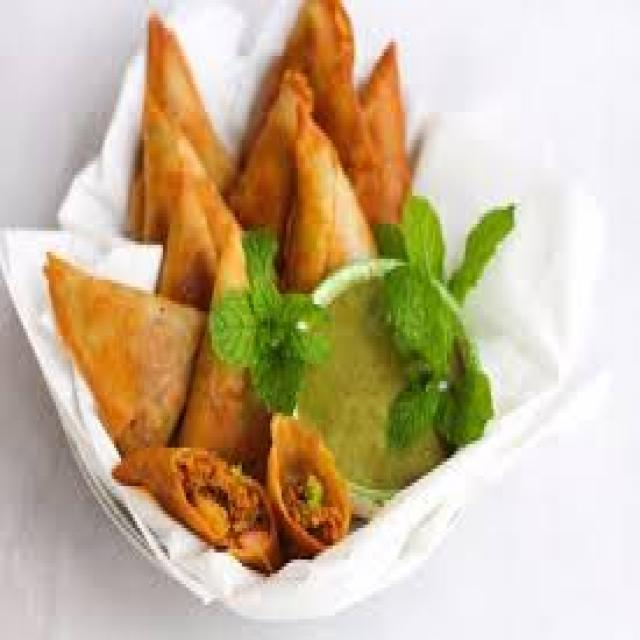SAMOSA: (43, 256, 205, 461), (123, 14, 245, 243), (181, 209, 273, 453), (278, 105, 385, 300), (156, 122, 233, 313), (234, 79, 305, 255)
